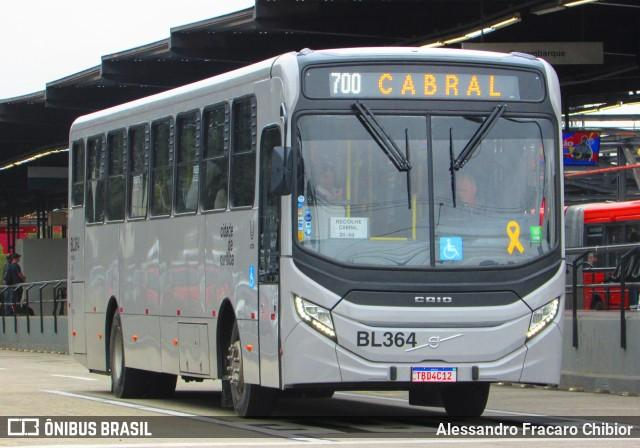CABRAL: (371, 68, 510, 99)
